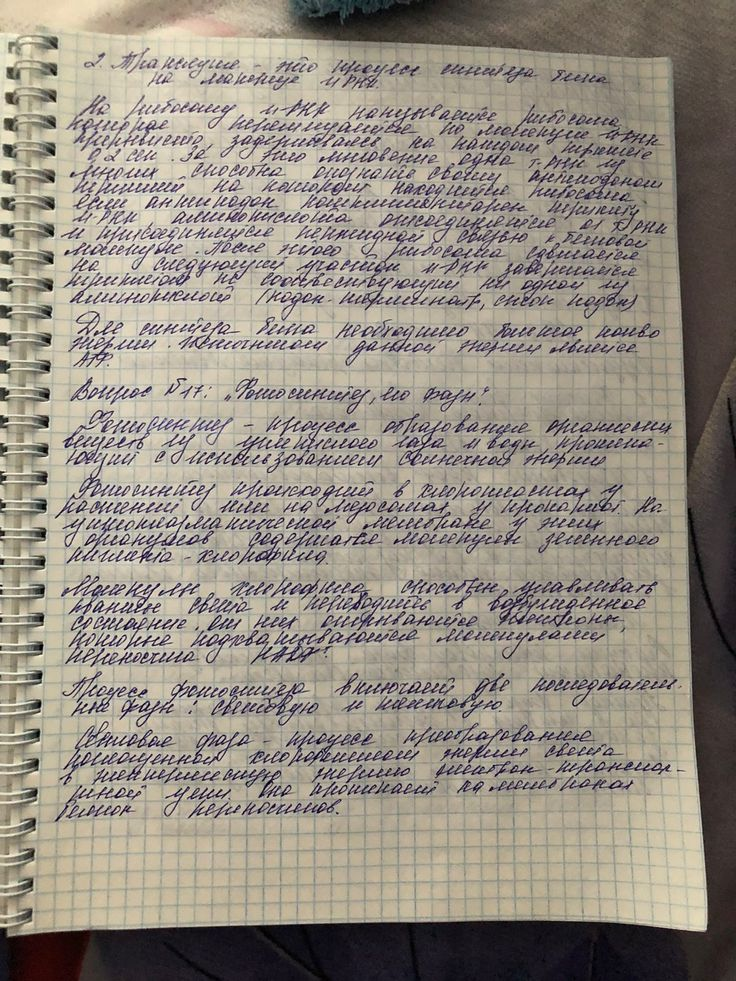page: (59, 51, 677, 921)
